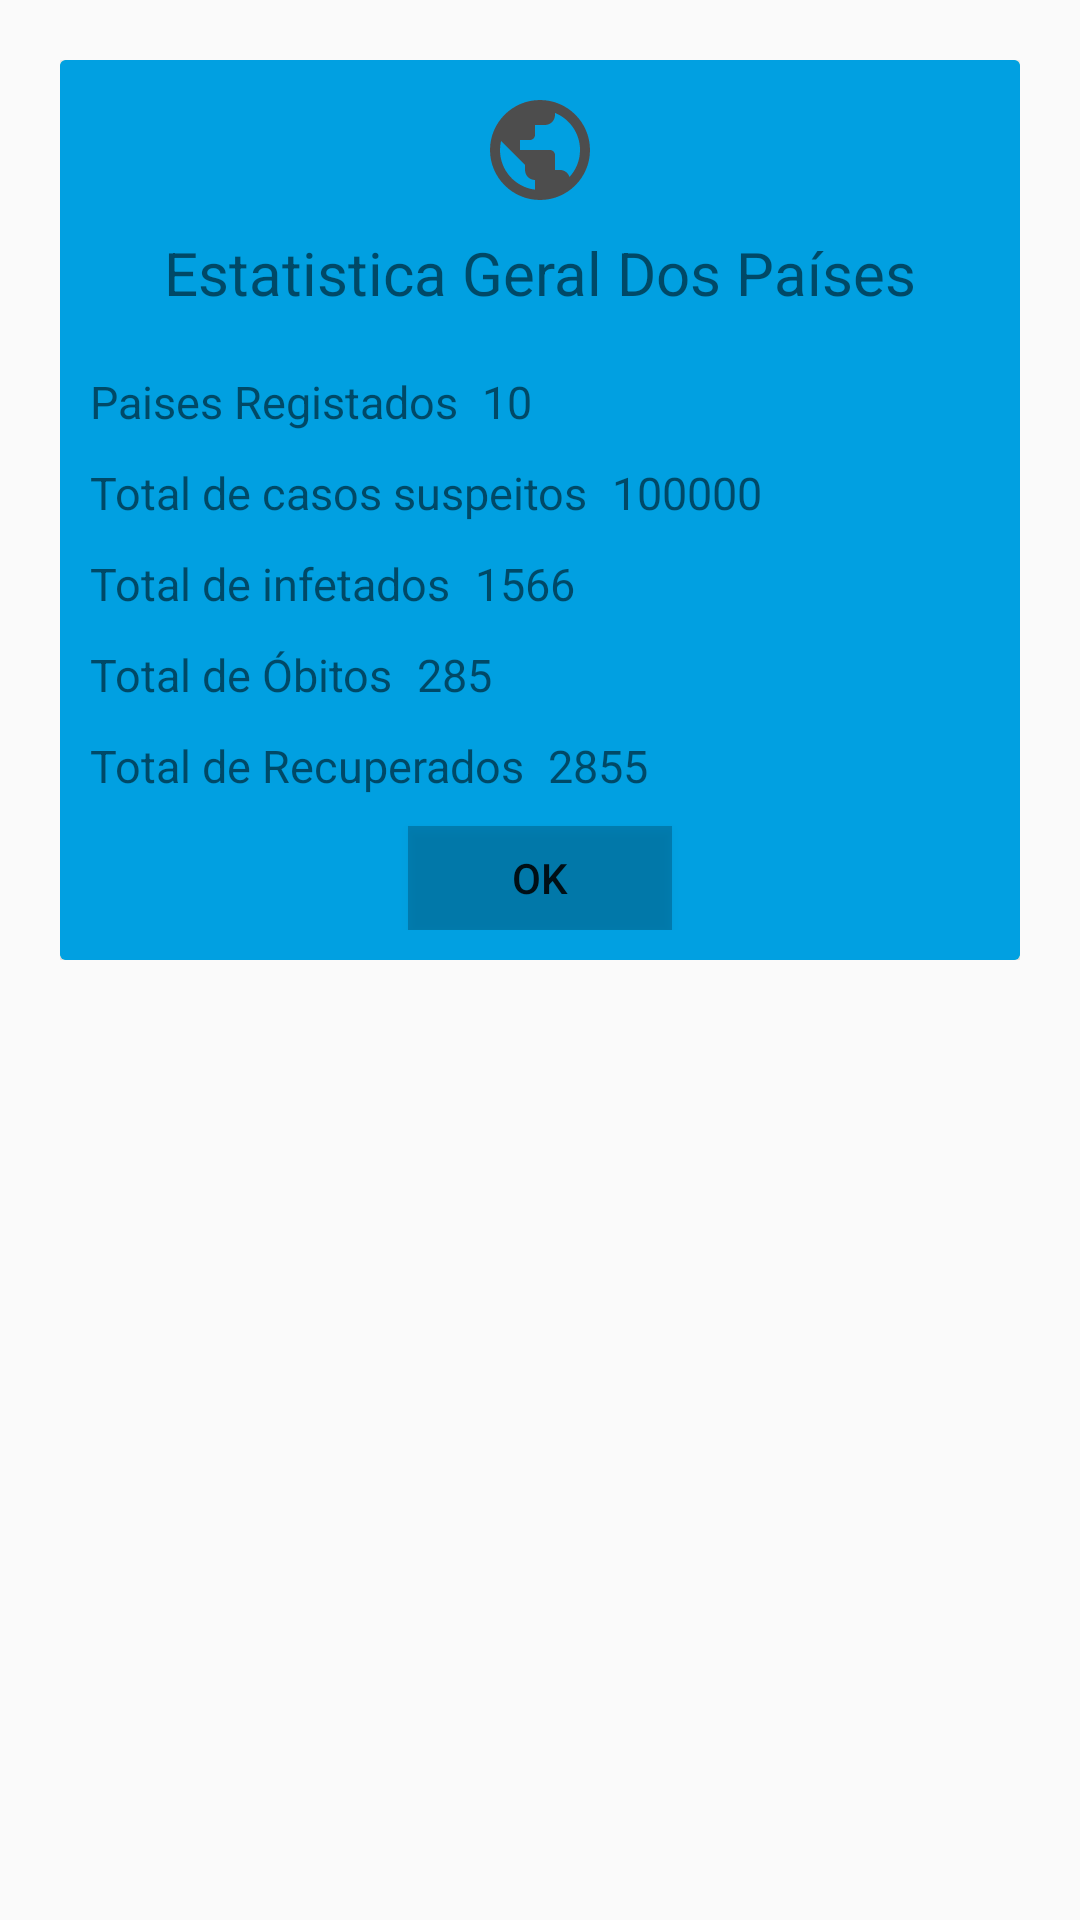

Icons on this 1080x1920 Android screen, each with its box as box=[x1, y1, x2, y2]:
public: box=[490, 100, 590, 200]
